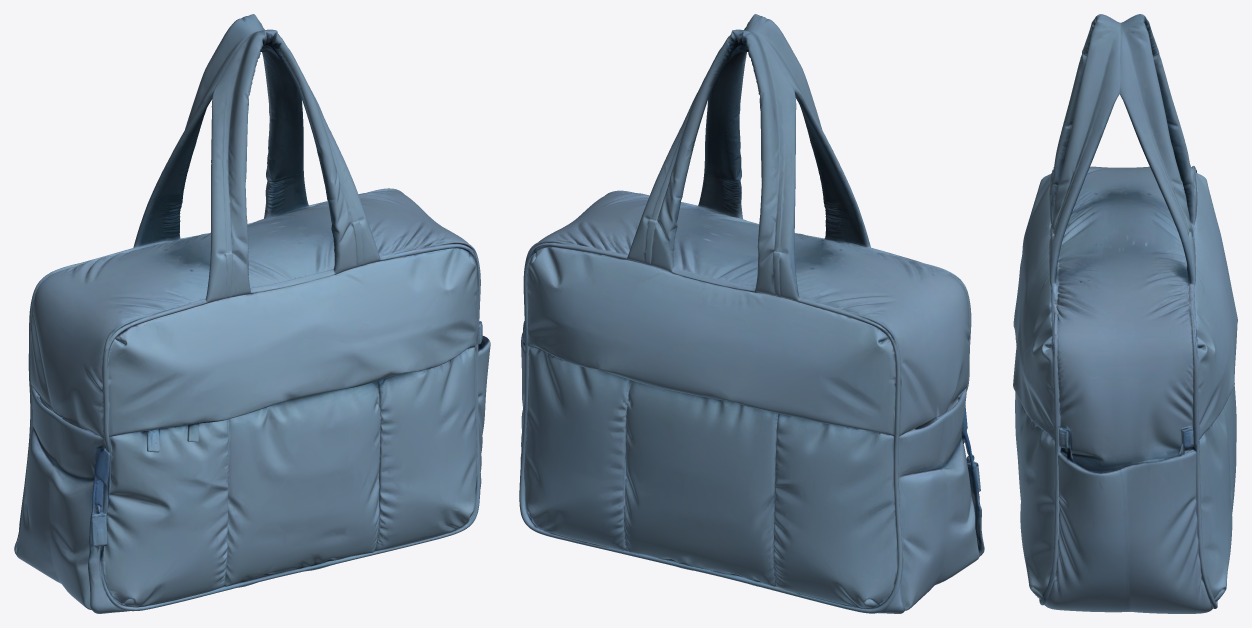
The picture shows the model from 3 angles, left to right: view 1: azimuth 30°, elevation 25°; view 2: azimuth 150°, elevation 25°; view 3: azimuth 270°, elevation 25°; orthographic projection.
Parts seen in each view (by area): view 1: node_0; view 2: node_0; view 3: node_0.
Boxes of the visible parts, x1,y1,x2,y2 form: node_0: (14, 14, 490, 613); node_0: (519, 14, 984, 613); node_0: (1013, 14, 1237, 613).
Size of the model in its own units: 0.7859 by 0.9334 by 0.3676.
1 material, 1 textured.
